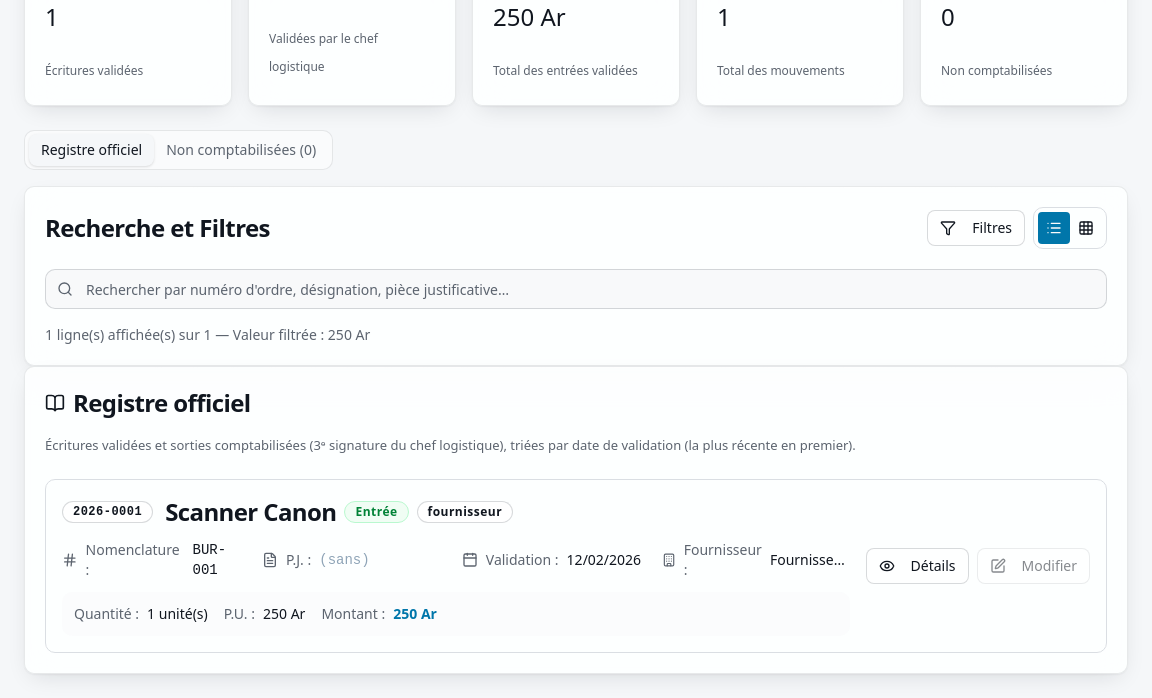
Test: Détails du journal — photo de l'article › 3. sans photo, affiche le message explicite au lieu d'une image cassée
(page scrolled)
Click the button "Détails".
click(917, 566)  # box x1=866 y1=548 x2=968 y2=584
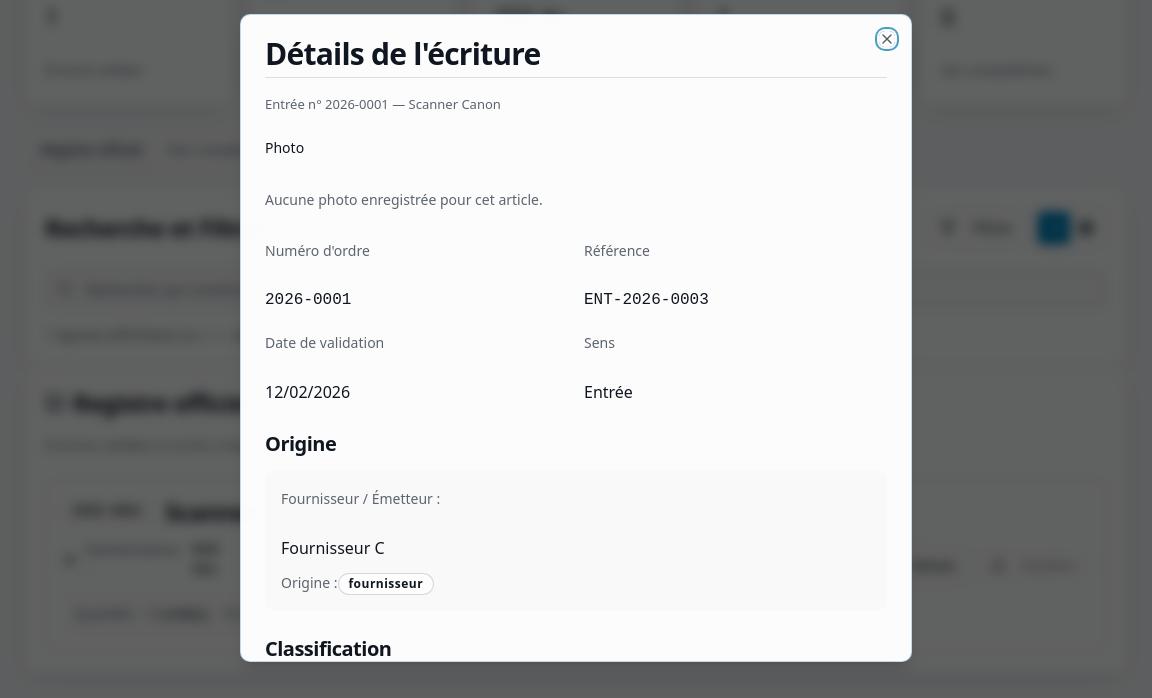
expect the text "Aucune photo enregistrée pour cet article." is shown: met, box x1=265 y1=186 x2=543 y2=214
